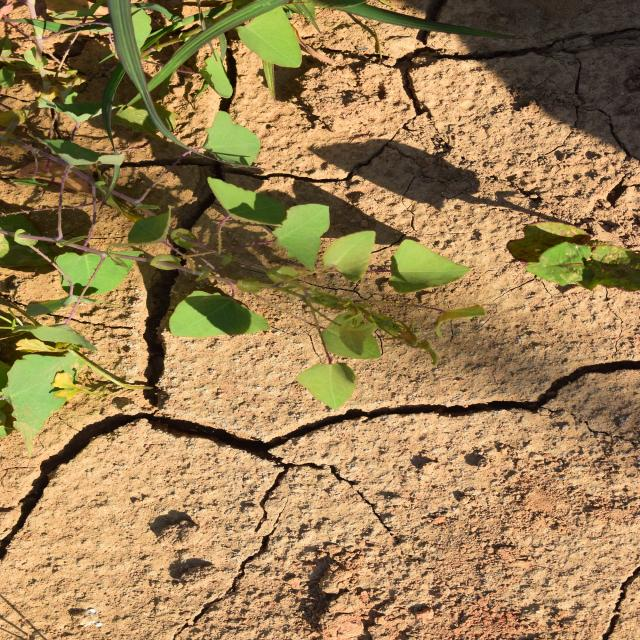Asiatic_Smartweed: (246, 161, 432, 457), (222, 0, 394, 136)
